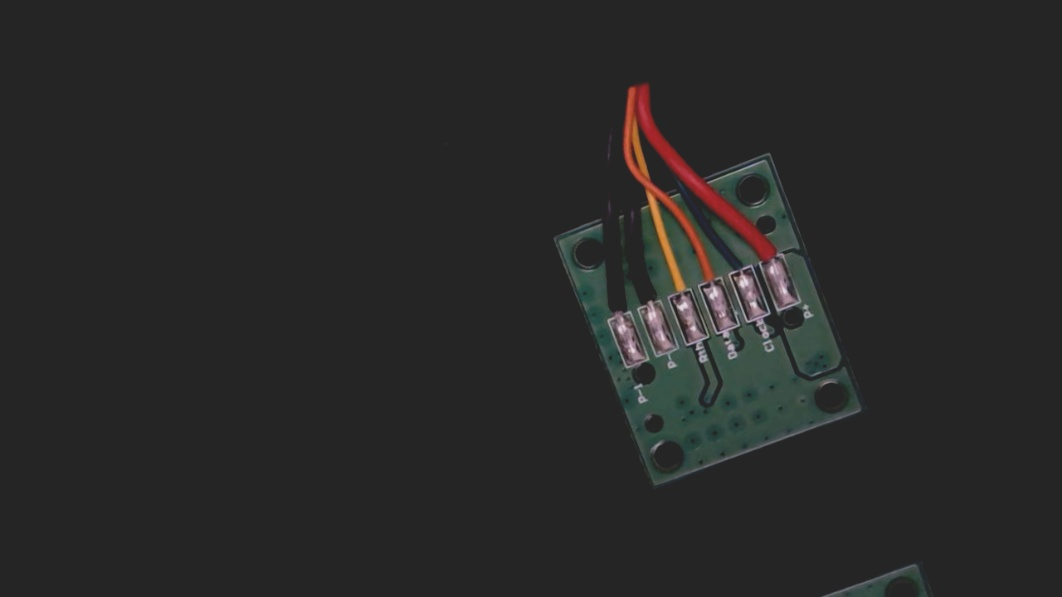Black: (626, 264, 666, 321)
Black1: (592, 274, 636, 335)
Green: (716, 236, 757, 288)
Orange: (684, 241, 727, 299)
Red: (742, 212, 788, 276)
Yellow: (654, 251, 697, 310)
